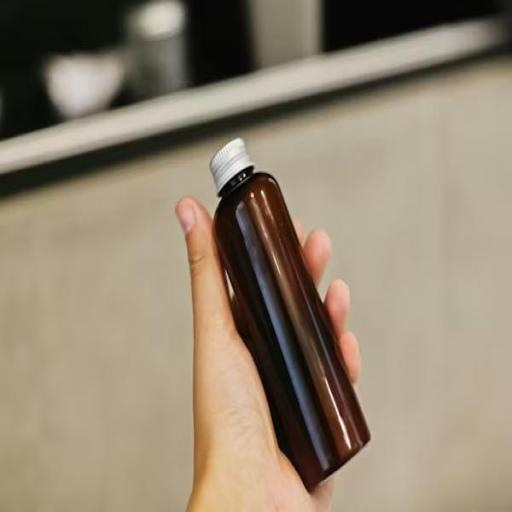bottle: (204, 124, 382, 496)
